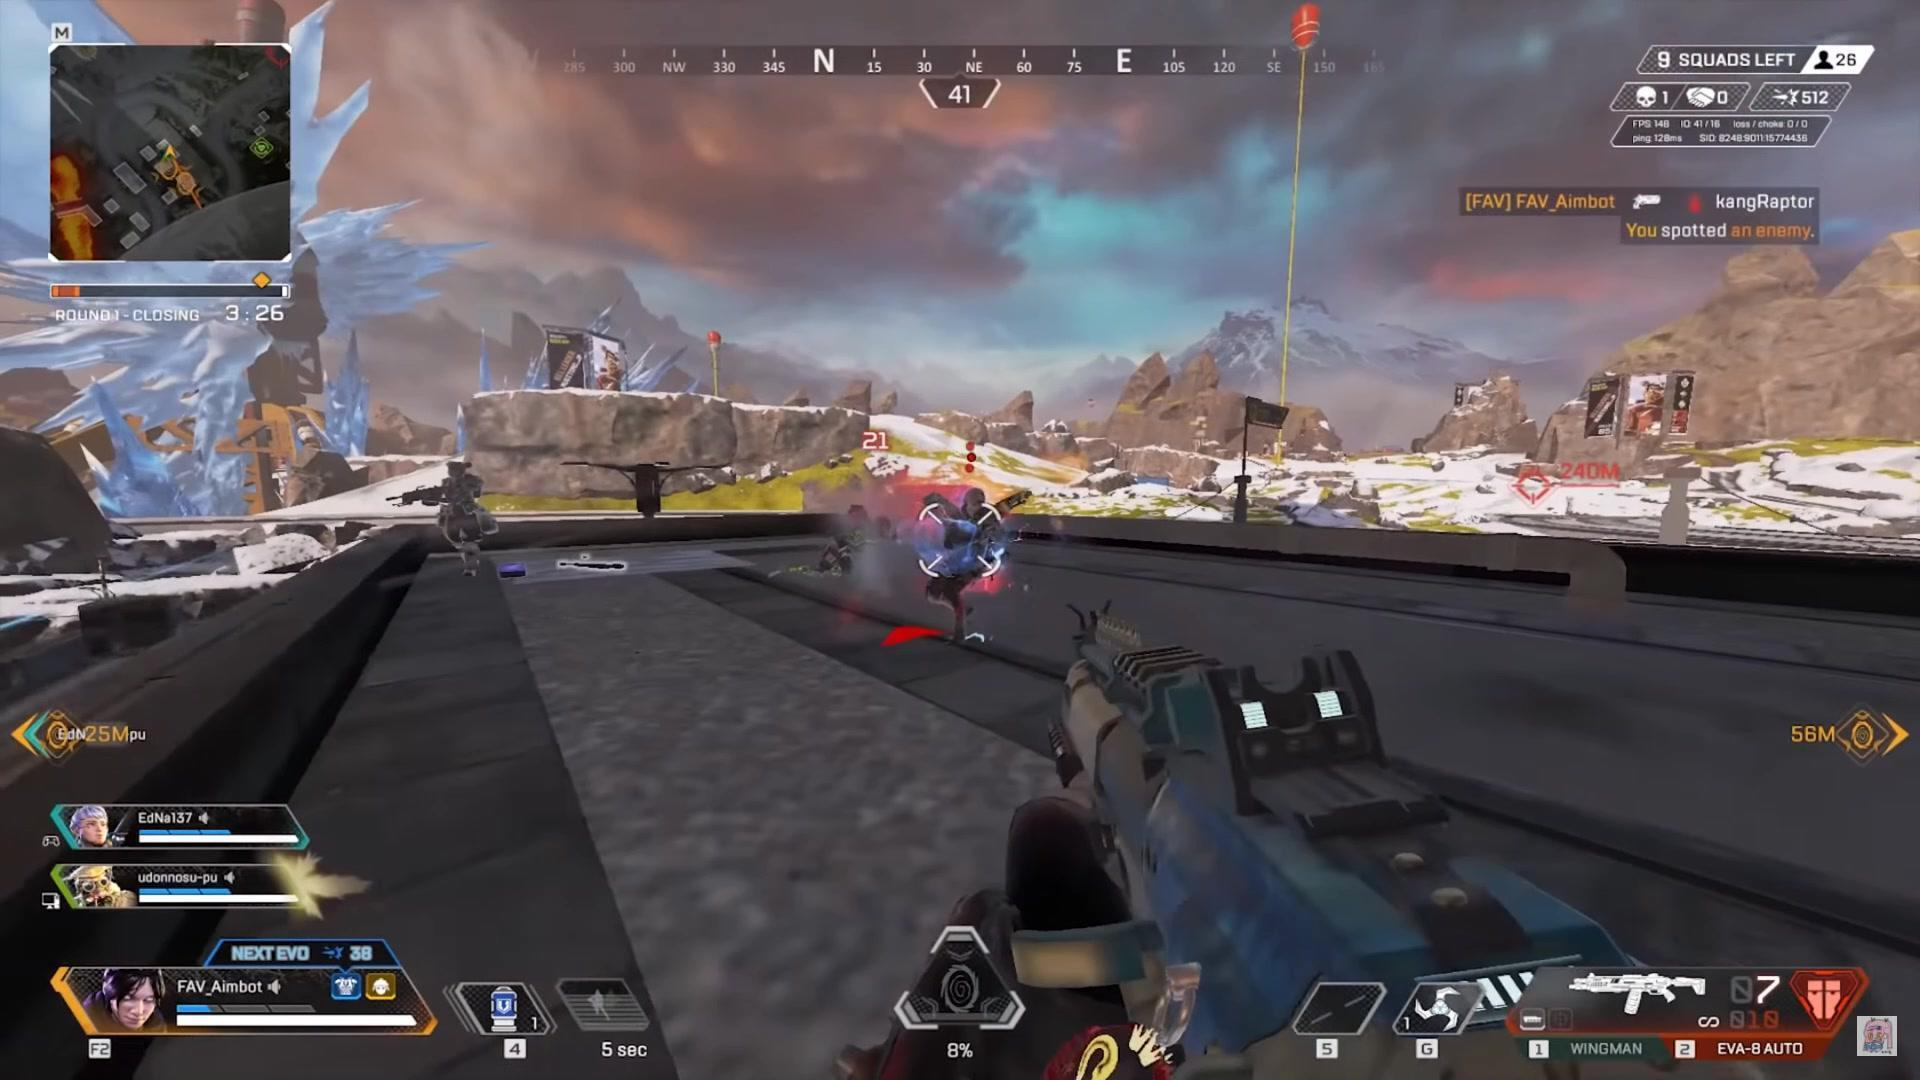avatar: (918, 483, 1010, 646), (438, 455, 502, 582)
